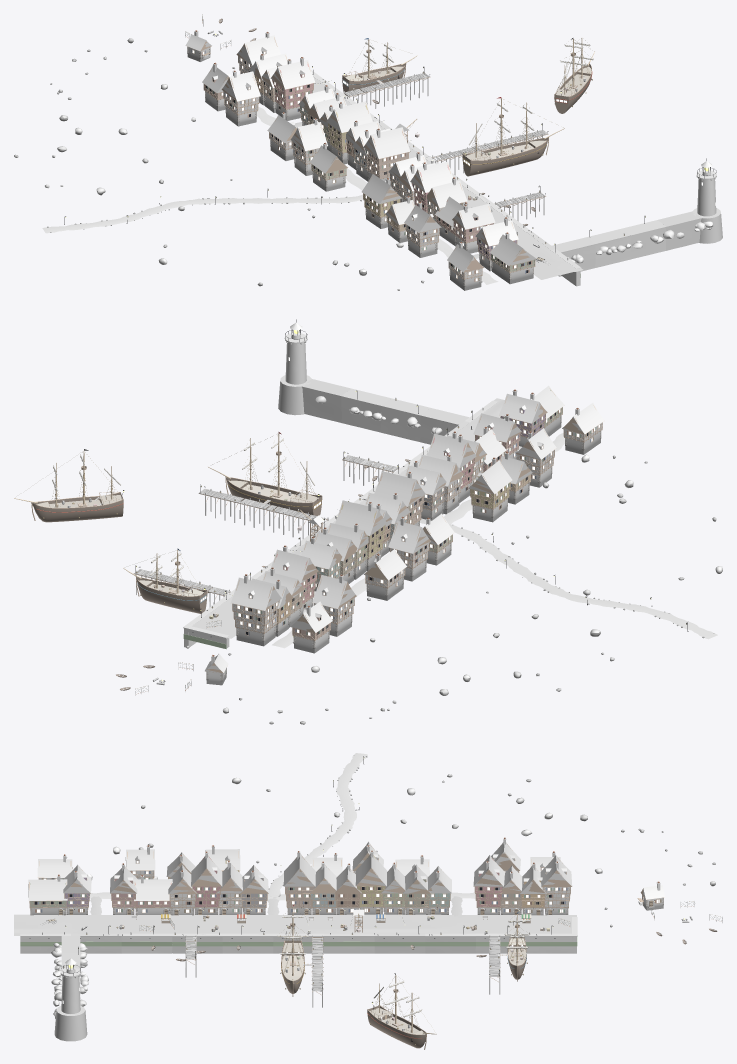
Rendered from porto_nebbie.glb.
3 renders of one model, top to bottom at view 1: azimuth 30°, elevation 25°; view 2: azimuth 150°, elevation 25°; view 3: azimuth 270°, elevation 25°, orthographic. The views are drawn at different scales.
Visible parts, largest first — view 1: case_c.tetto, faro.muro, case_s.tetto, case_c.legno, case_n.tegole, vie.ciottoli, case_n.legno, case_s.legno, faro.pietra, banchina.ciottoli, case_s.muro, case_n.tetto (+20 smaller); view 2: case_c.tetto, faro.muro, case_n.tegole, case_n.legno, case_s.tetto, case_c.legno, vie.ciottoli, case_n.muro, faro.pietra, case_s.legno, case_n.tetto, case_c.tegole (+17 smaller); view 3: banchina.ciottoli, banchina.muro, case_c.legno, case_s.tetto, case_n.legno, case_c.tetto, case_n.tegole, vie.ciottoli, banchina.muschio, banchina.pietra, case_c.tavole, case_s.legno (+18 smaller).
Boxes of the visible parts, x1,y1,x2,y2 form: case_c.tetto: (290,101,452,203); faro.muro: (558,169,722,276); case_s.tetto: (385,196,536,265); case_c.legno: (292,103,450,221); case_n.tegole: (222,35,346,142); vie.ciottoli: (42,107,498,284); case_n.legno: (203,37,345,152); case_s.legno: (385,183,535,281); faro.pietra: (552,170,716,263); banchina.ciottoli: (312,76,583,279); case_s.muro: (388,179,533,290); case_n.tetto: (202,53,333,127); case_c.tetto: (335,433,512,553); faro.muro: (278,332,457,444); case_n.tegole: (231,531,406,610); case_n.legno: (232,525,405,641); case_s.tetto: (473,385,564,484); case_c.legno: (339,436,510,569); vie.ciottoli: (272,433,717,648); case_n.muro: (236,526,403,653); faro.pietra: (284,333,468,434); case_s.legno: (472,388,602,495); case_n.tetto: (251,523,368,632); case_c.tegole: (374,455,461,544); banchina.ciottoli: (14,914,576,935); banchina.muro: (20,933,576,953); case_c.legno: (191,844,385,912); case_s.tetto: (28,849,195,900); case_n.legno: (381,843,571,913); case_c.tetto: (191,841,386,893); case_n.tegole: (395,842,572,893); vie.ciottoli: (89,753,570,916); banchina.muschio: (20,937,577,946); banchina.pietra: (20,917,577,936); case_c.tavole: (193,855,384,914); case_s.legno: (28,851,196,913).
Bounding box in the file's own units: 216 × 28.9 × 224.
